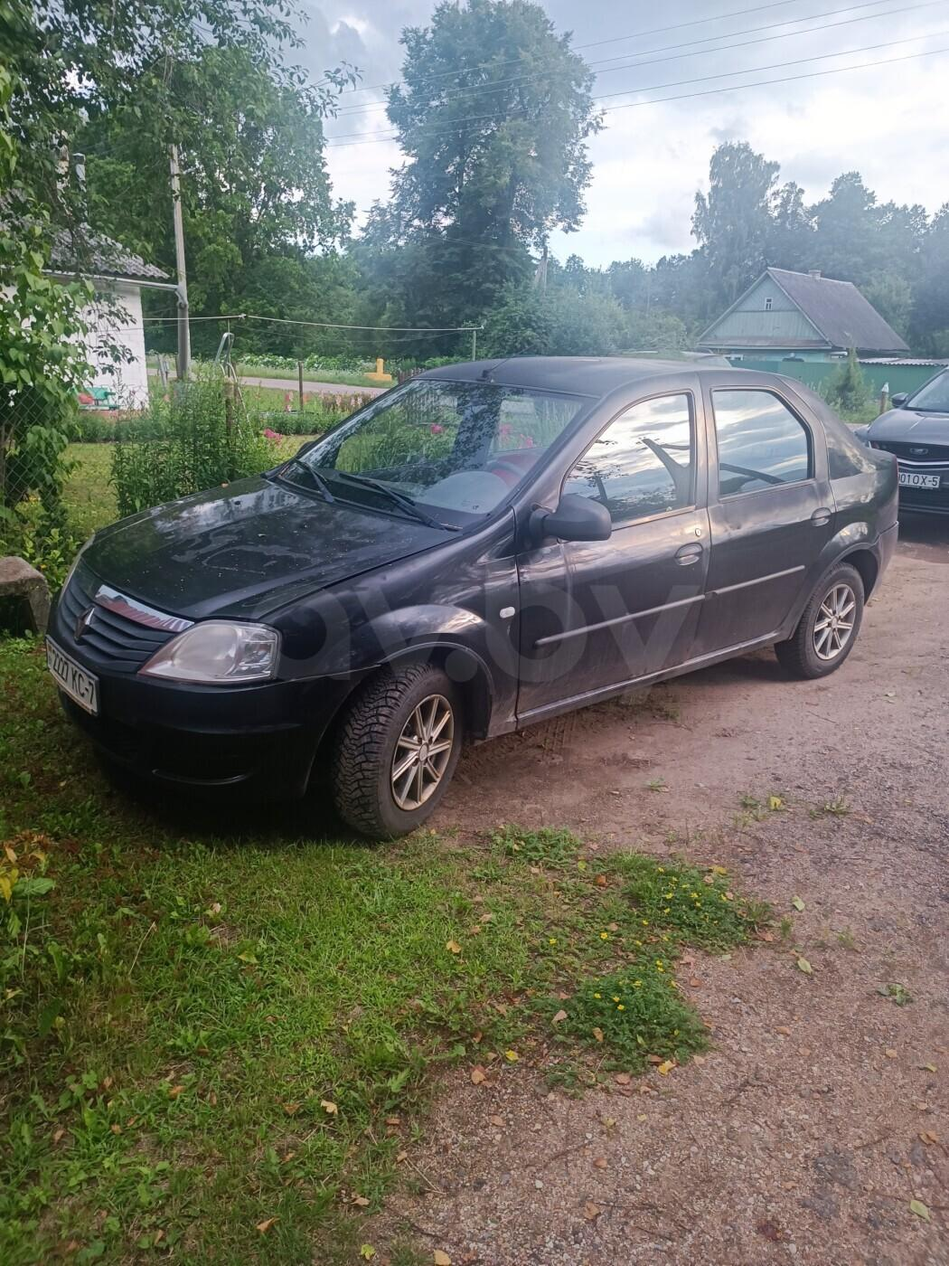Logan_2008-2015: (42, 349, 906, 846)
